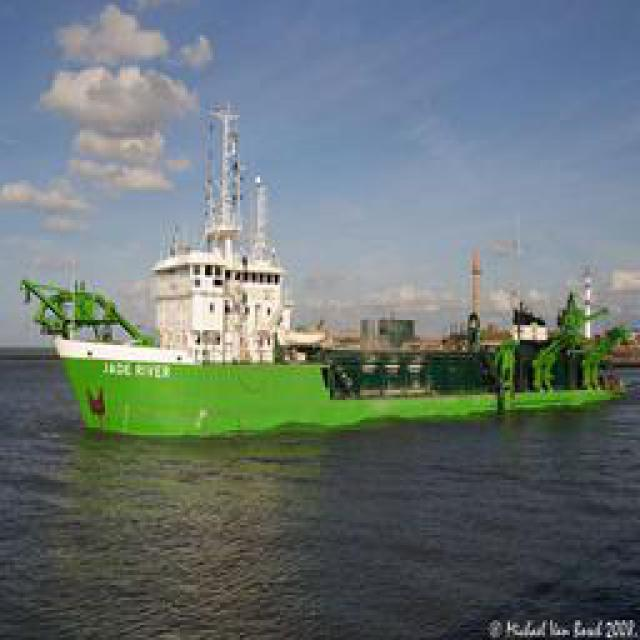Ship: (46, 67, 633, 442)
